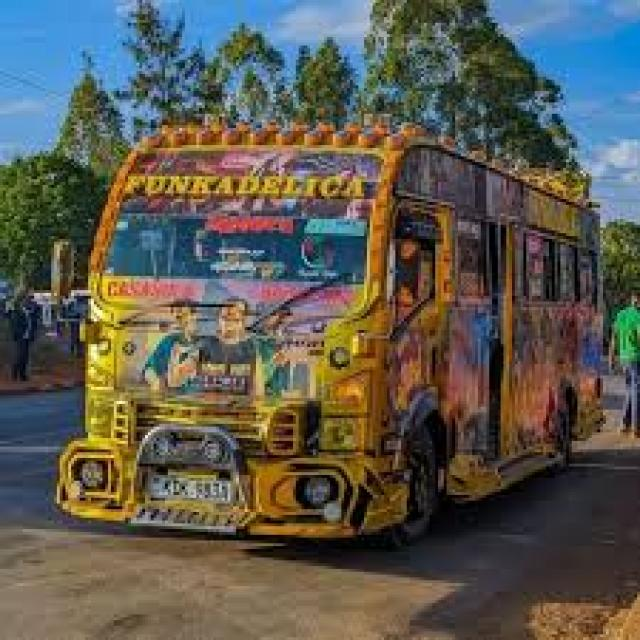bus: (28, 44, 626, 592)
